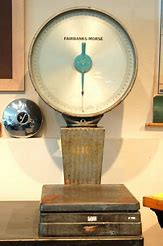Industrial Scale: (28, 5, 142, 237)
